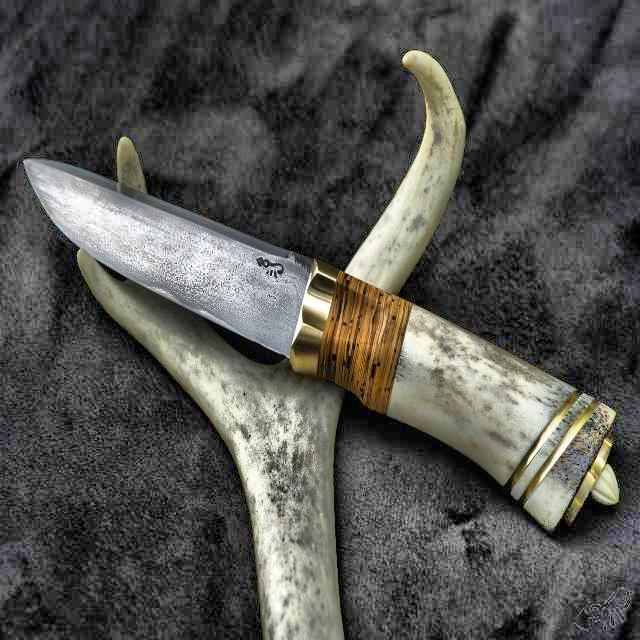knife: (22, 155, 626, 540)
